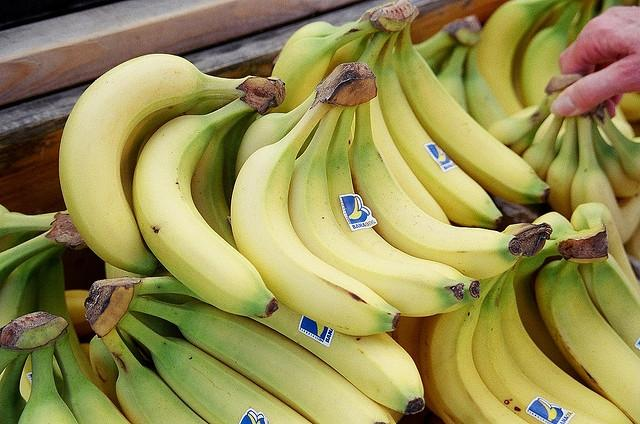banana: (58, 54, 276, 276), (230, 101, 402, 337), (133, 276, 426, 414), (287, 106, 464, 316), (132, 78, 278, 318), (127, 294, 396, 422), (326, 104, 480, 314), (351, 104, 519, 282), (390, 24, 550, 204), (375, 31, 504, 230), (499, 255, 633, 424), (116, 309, 312, 424), (472, 269, 608, 424), (348, 32, 452, 226), (536, 257, 640, 424), (417, 277, 531, 424), (29, 310, 132, 424), (100, 326, 208, 424), (512, 238, 584, 385), (270, 18, 381, 113), (476, 0, 558, 116), (570, 113, 638, 245), (38, 253, 101, 390), (190, 115, 248, 254), (236, 88, 316, 182), (519, 0, 582, 108), (570, 202, 640, 295), (579, 254, 640, 358), (0, 243, 67, 330), (276, 9, 376, 64), (488, 90, 562, 156), (18, 346, 78, 423), (464, 42, 510, 132), (590, 100, 639, 184), (0, 228, 59, 290), (546, 117, 579, 222), (224, 111, 258, 211), (520, 112, 565, 182), (592, 119, 624, 198), (90, 335, 122, 413), (320, 34, 372, 82), (436, 46, 470, 116), (0, 354, 29, 424), (392, 316, 427, 373), (0, 204, 55, 238), (412, 29, 457, 60), (64, 289, 92, 336), (532, 212, 578, 239), (104, 260, 152, 279), (576, 0, 597, 36), (1, 345, 24, 373), (618, 92, 640, 121), (19, 354, 32, 402), (626, 224, 640, 260), (596, 1, 624, 17)
